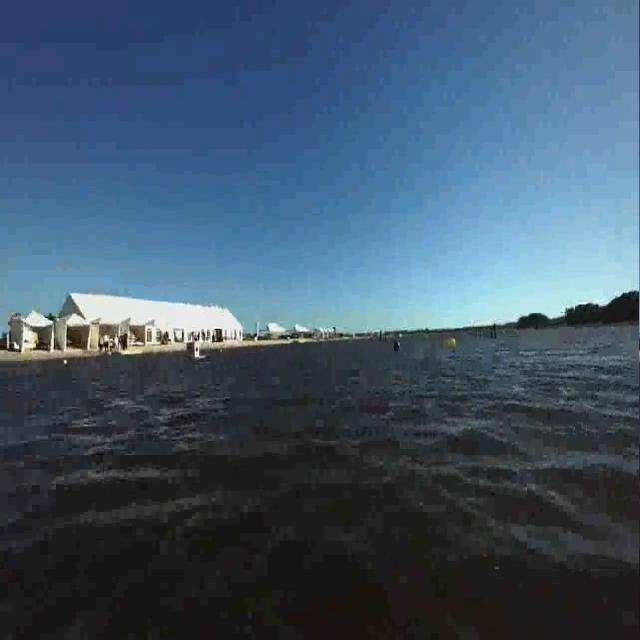blue-buoy: (394, 339, 402, 354)
yellow-buoy: (447, 336, 458, 352)
